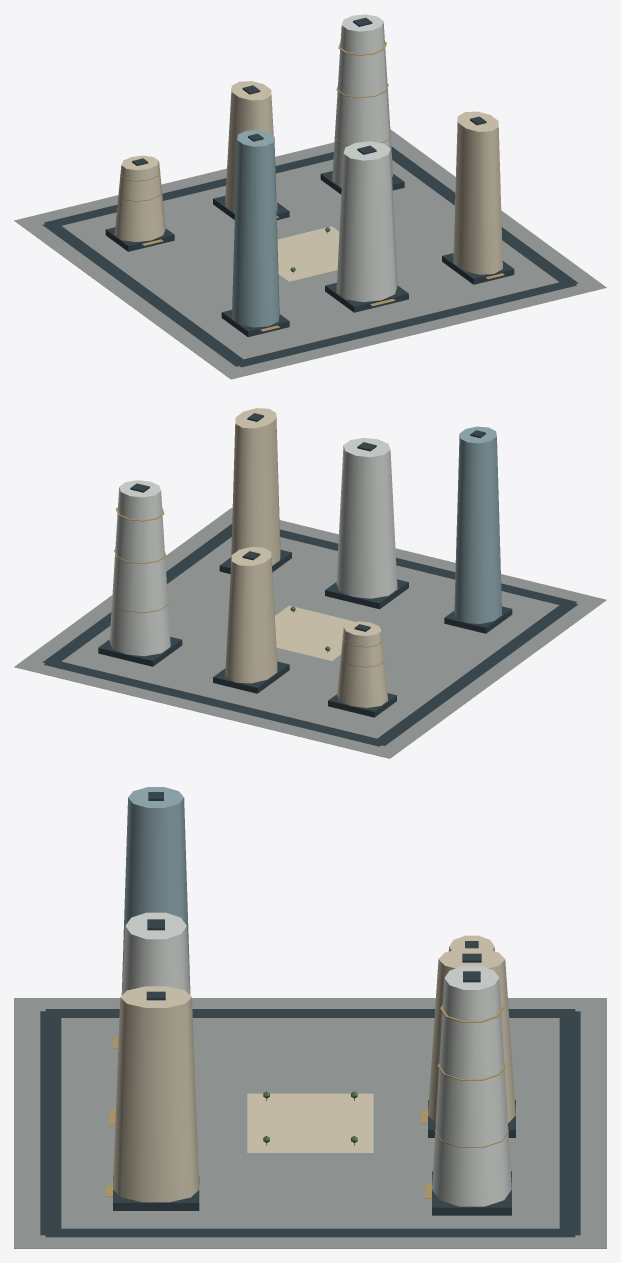
The model's file is GC-TILE-07-20.glb.
The picture shows the model from 3 angles, top to bottom: view 1: azimuth 30°, elevation 25°; view 2: azimuth 150°, elevation 25°; view 3: azimuth 270°, elevation 25°; orthographic projection. The views are drawn at different scales.
Parts seen in each view (by area): view 1: GC-TILE-07-20-paving, GC-TILE-07-20-ivory, GC-TILE-07-20-white, GC-TILE-07-20-dark, GC-TILE-07-20-glass, GC-TILE-07-20-gold; view 2: GC-TILE-07-20-paving, GC-TILE-07-20-ivory, GC-TILE-07-20-white, GC-TILE-07-20-dark, GC-TILE-07-20-glass; view 3: GC-TILE-07-20-paving, GC-TILE-07-20-ivory, GC-TILE-07-20-dark, GC-TILE-07-20-white, GC-TILE-07-20-glass, GC-TILE-07-20-gold.
Part boxes in pixels (x1,y1,x2,y2): GC-TILE-07-20-paving: (14,129,606,379); GC-TILE-07-20-ivory: (114,81,502,281); GC-TILE-07-20-white: (332,14,397,301); GC-TILE-07-20-dark: (42,17,578,367); GC-TILE-07-20-glass: (232,130,279,327); GC-TILE-07-20-gold: (118,41,504,331); GC-TILE-07-20-paving: (14,508,606,758); GC-TILE-07-20-ivory: (225,408,387,707); GC-TILE-07-20-white: (109,438,397,656); GC-TILE-07-20-dark: (42,413,578,746); GC-TILE-07-20-glass: (454,426,501,623); GC-TILE-07-20-paving: (14,998,606,1248); GC-TILE-07-20-ivory: (113,935,515,1202); GC-TILE-07-20-dark: (40,792,580,1237); GC-TILE-07-20-white: (122,912,511,1206); GC-TILE-07-20-glass: (121,787,190,995); GC-TILE-07-20-gold: (106,1005,508,1198).
Bounding box in the file's own units: 338 × 160 × 338.
